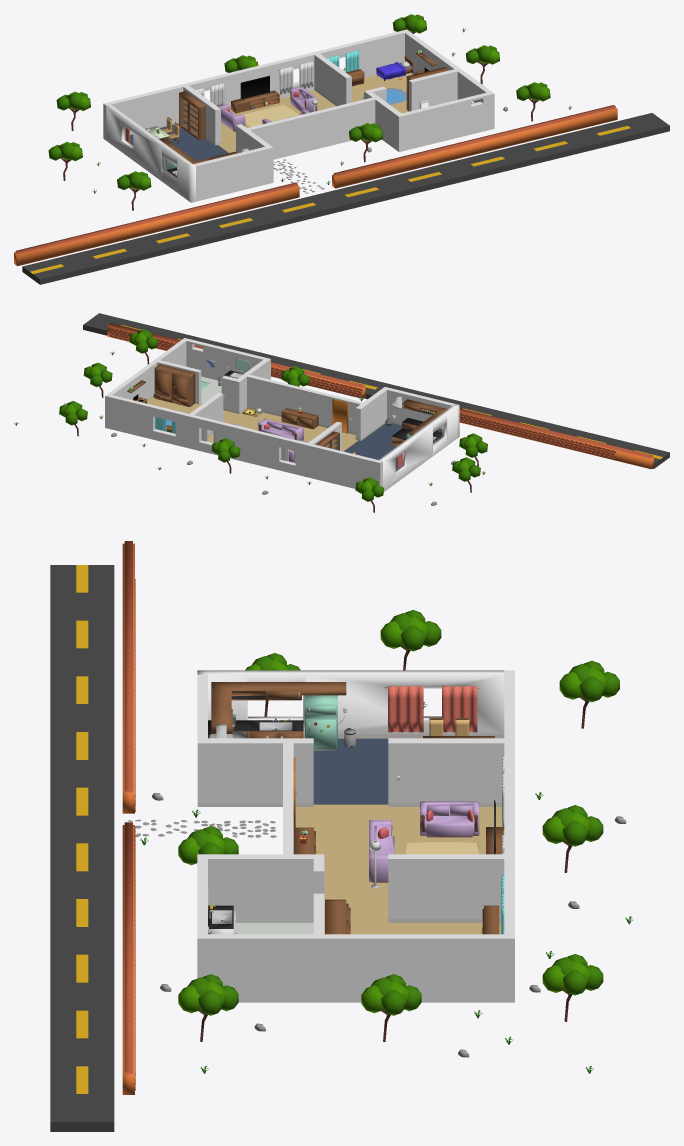
The model's file is HouseScene.fbx.
3 views of the same model, one above another, from view 1: azimuth 30°, elevation 25°; view 2: azimuth 150°, elevation 25°; view 3: azimuth 270°, elevation 25° (orthographic). The views are drawn at different scales.
Visible parts, largest first — view 1: Asphalt, Cube.036, Wall10, Wall8.001, Wall8.002, Wall7, Wall8, Ground, Wall9, Wall4, Wall1, Cube.003 (+18 smaller); view 2: Wall10, Cube.036, Asphalt, Wall8.001, Ground, Wall7, Wall8.002, Closet, Wall9, Wall5, Wall8, Wall3 (+16 smaller); view 3: Asphalt, Wall9, Ground, Wall7, Wall1, Wall6, Cube.036, Wall5, Wall3, Wall10, Curtain, Kitchen Sink.002 (+15 smaller).
Part boxes in pixels (box(x1,y1,x2,y2)): Asphalt: box(22, 113, 669, 284); Cube.036: box(14, 105, 617, 266); Wall10: box(103, 29, 409, 140); Wall8.001: box(247, 97, 375, 159); Wall8.002: box(396, 92, 490, 151); Wall7: box(106, 104, 195, 202); Wall8: box(193, 146, 270, 201); Ground: box(130, 72, 413, 160); Wall9: box(405, 31, 494, 129); Wall4: box(409, 69, 457, 111); Wall1: box(314, 53, 351, 106); Cube.003: box(179, 91, 205, 139); Wall10: box(105, 394, 382, 488); Cube.036: box(107, 323, 654, 468); Asphalt: box(83, 313, 669, 468); Wall8.001: box(247, 374, 362, 434); Ground: box(147, 376, 401, 469); Wall7: box(379, 404, 459, 491); Wall8.002: box(186, 338, 270, 380); Closet: box(153, 364, 195, 406); Wall9: box(108, 338, 187, 401); Wall5: box(355, 387, 387, 440); Wall8: box(385, 387, 454, 425); Wall3: box(234, 359, 268, 413); Asphalt: box(50, 565, 114, 1131); Wall9: box(197, 934, 504, 1002); Ground: box(236, 738, 504, 934); Wall7: box(197, 670, 504, 738); Wall1: box(388, 854, 504, 922); Wall6: box(388, 738, 514, 806); Cube.036: box(122, 541, 135, 1094); Wall5: box(197, 738, 313, 806); Wall3: box(208, 854, 324, 922); Wall10: box(504, 670, 514, 1002); Curtain: box(384, 686, 480, 732); Kitchen Sink.002: box(211, 682, 346, 733).
Size of the model in its own units: 6502 by 460 by 2866.
